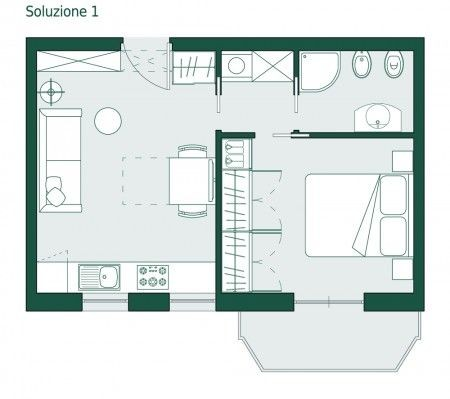door: (124, 39, 177, 97)
room: (20, 31, 224, 314), (212, 128, 427, 313), (209, 28, 424, 138)
wall: (18, 33, 224, 312), (210, 34, 424, 139), (23, 35, 41, 309), (169, 36, 426, 53), (411, 43, 426, 309), (214, 124, 224, 310), (216, 290, 295, 312), (287, 128, 414, 140), (35, 34, 121, 51), (26, 290, 86, 313), (126, 288, 171, 312), (363, 290, 412, 310), (212, 53, 226, 113), (292, 53, 301, 117), (217, 130, 256, 143)
window: (293, 290, 366, 313), (165, 290, 217, 313), (79, 292, 131, 311)
